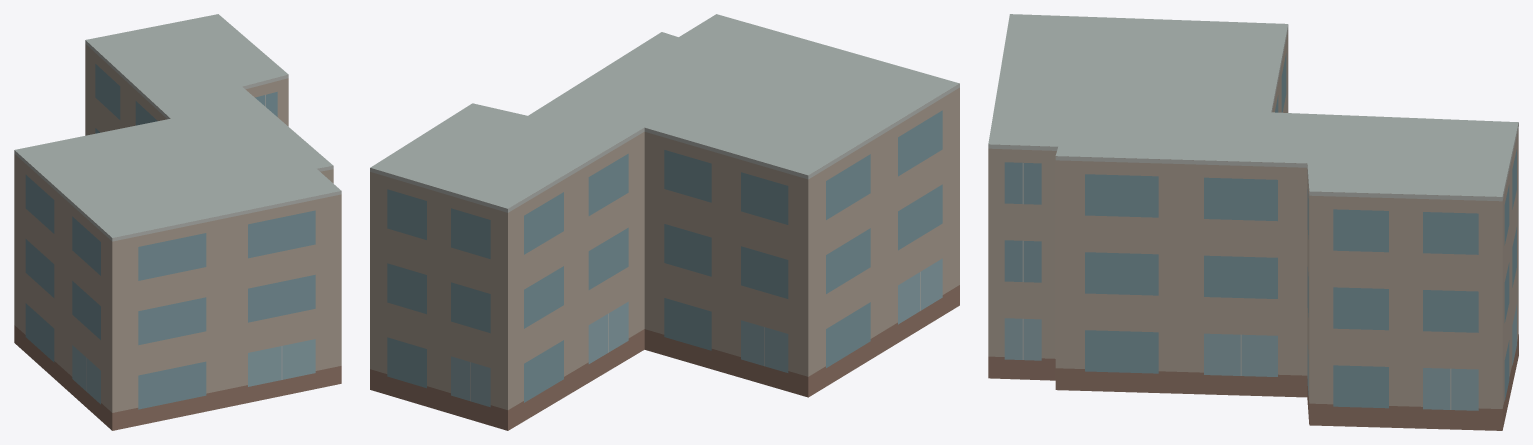
Rendered from survey-upis-32954944.glb.
3 renders of one model, left to right at view 1: azimuth 30°, elevation 25°; view 2: azimuth 150°, elevation 25°; view 3: azimuth 270°, elevation 25°, orthographic. The views are drawn at different scales.
Visible parts, largest first — view 1: survey-upis-32954944.tmp; view 2: survey-upis-32954944.tmp; view 3: survey-upis-32954944.tmp.
Part boxes in pixels (x1=…): survey-upis-32954944.tmp: x1=14, y1=14, x2=341, y2=430; survey-upis-32954944.tmp: x1=370, y1=14, x2=959, y2=430; survey-upis-32954944.tmp: x1=988, y1=14, x2=1518, y2=430.
Size of the model in its own units: 22.32 by 13.3 by 27.34.
